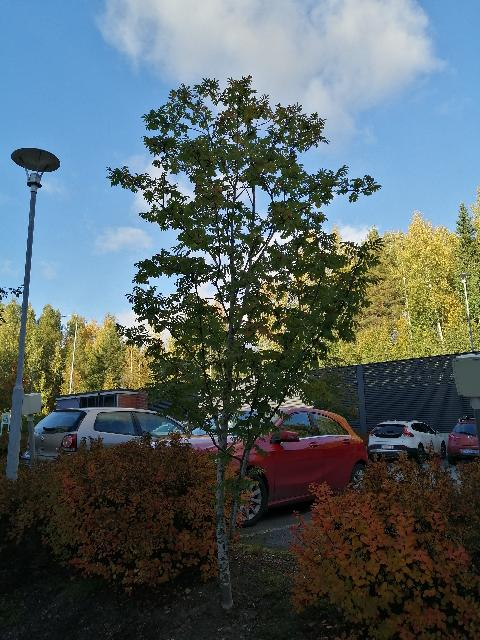rowan: (100, 72, 390, 614)
